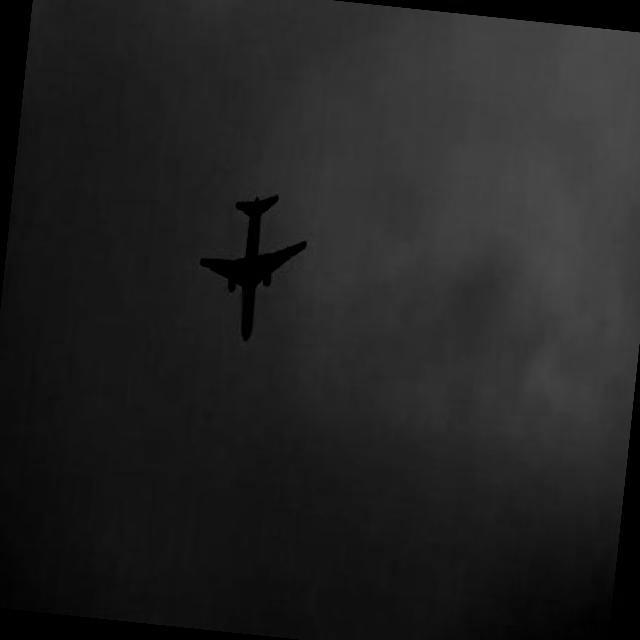aeroplane: (192, 190, 314, 346)
